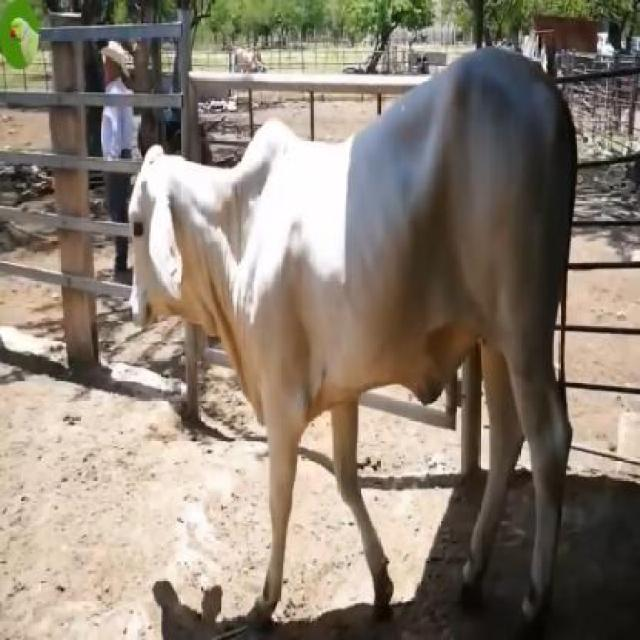Cow: (130, 45, 578, 626)
